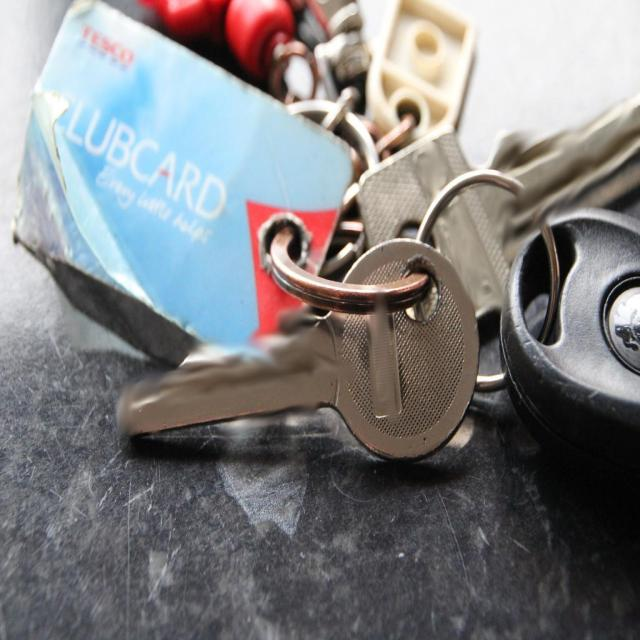Frontdoor keys: (113, 233, 480, 468)
